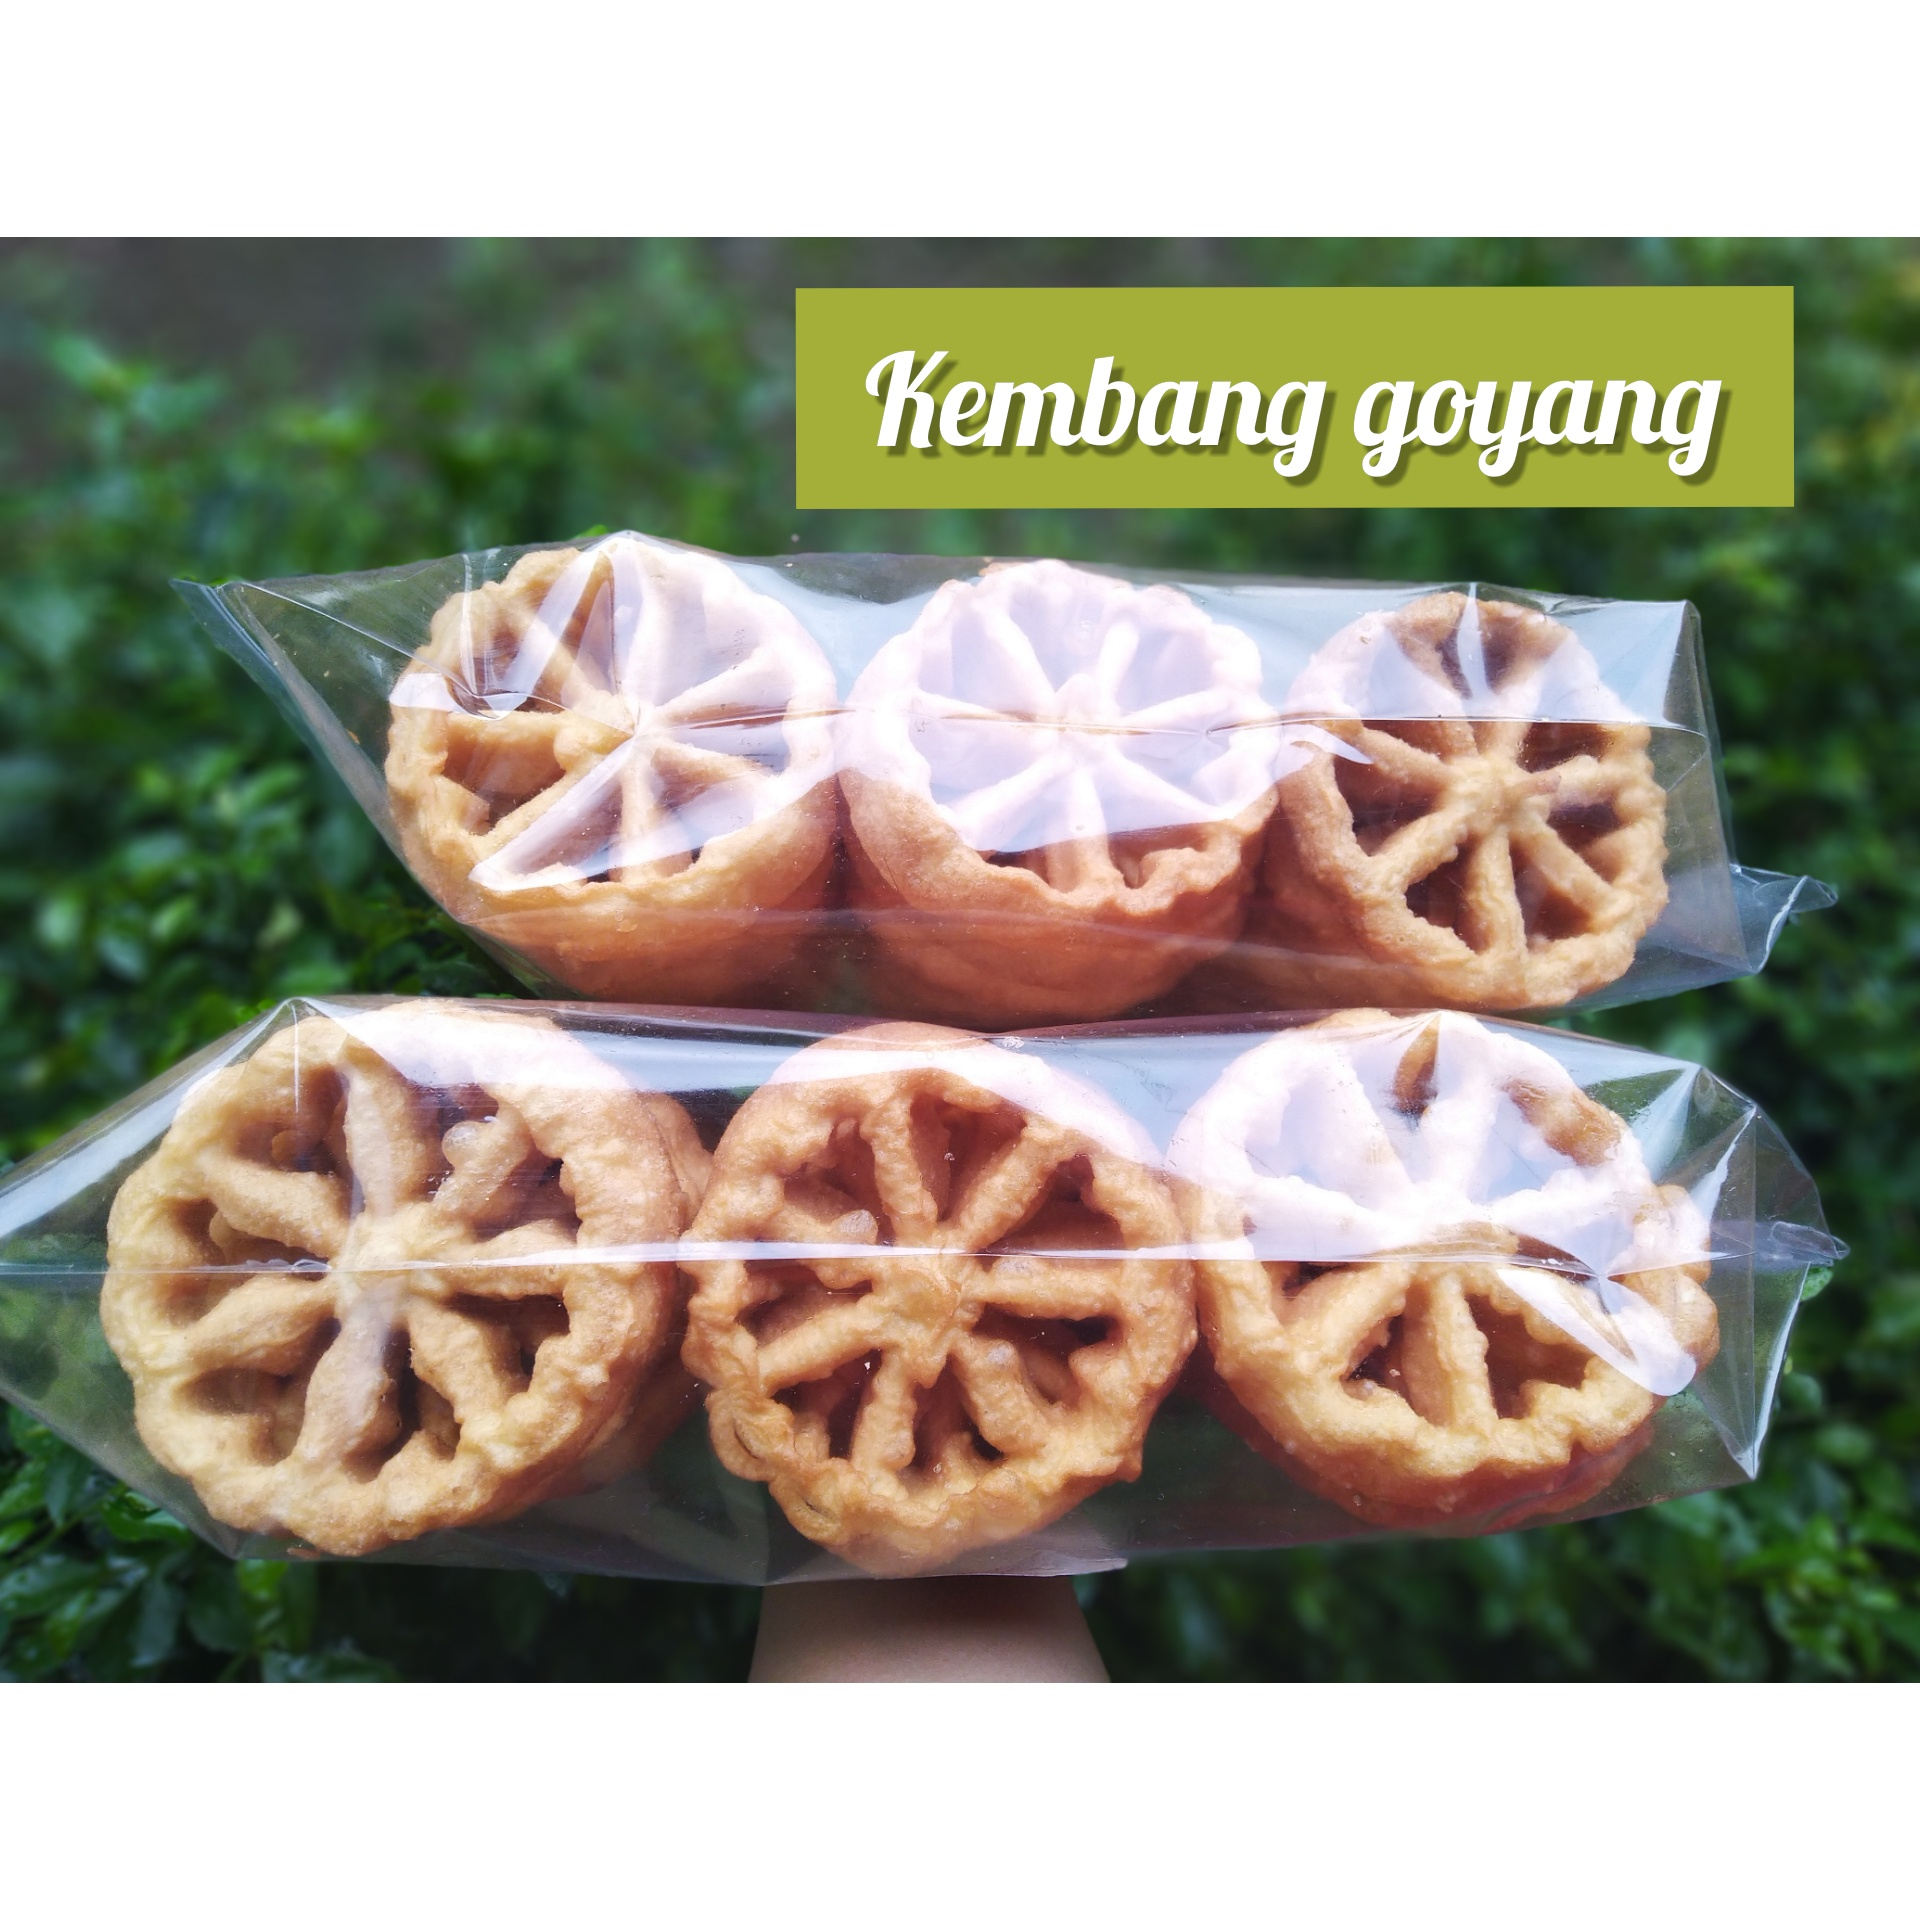kembang_goyang: (104, 1016, 693, 1524), (1262, 986, 1774, 1545), (703, 1030, 1248, 1549)
